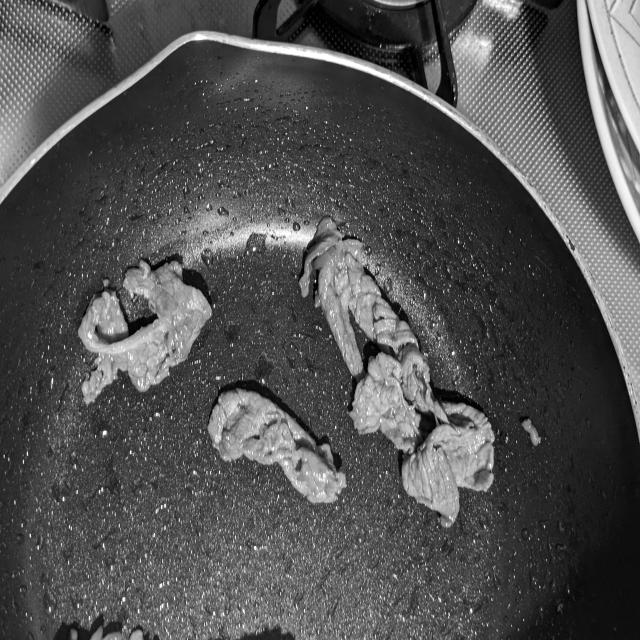OK cooked beef,: (344, 352, 501, 535), (71, 250, 220, 415), (294, 208, 428, 384), (204, 379, 354, 516)
